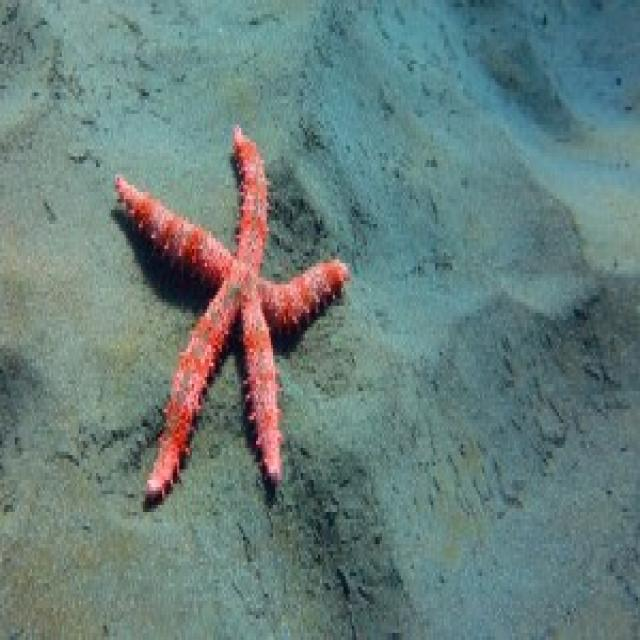Starfish: (89, 111, 354, 504)
